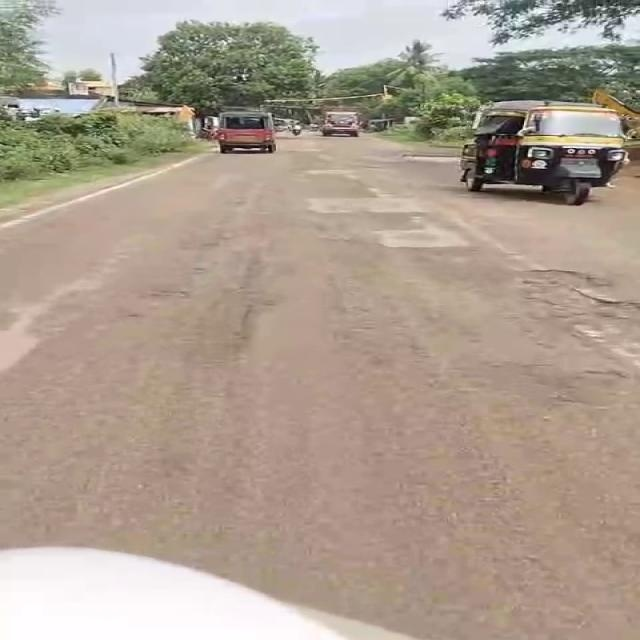pothole: (198, 238, 257, 309), (533, 290, 640, 318), (510, 266, 605, 290)
